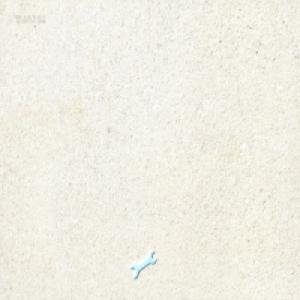Wrench: (130, 249, 155, 277)
